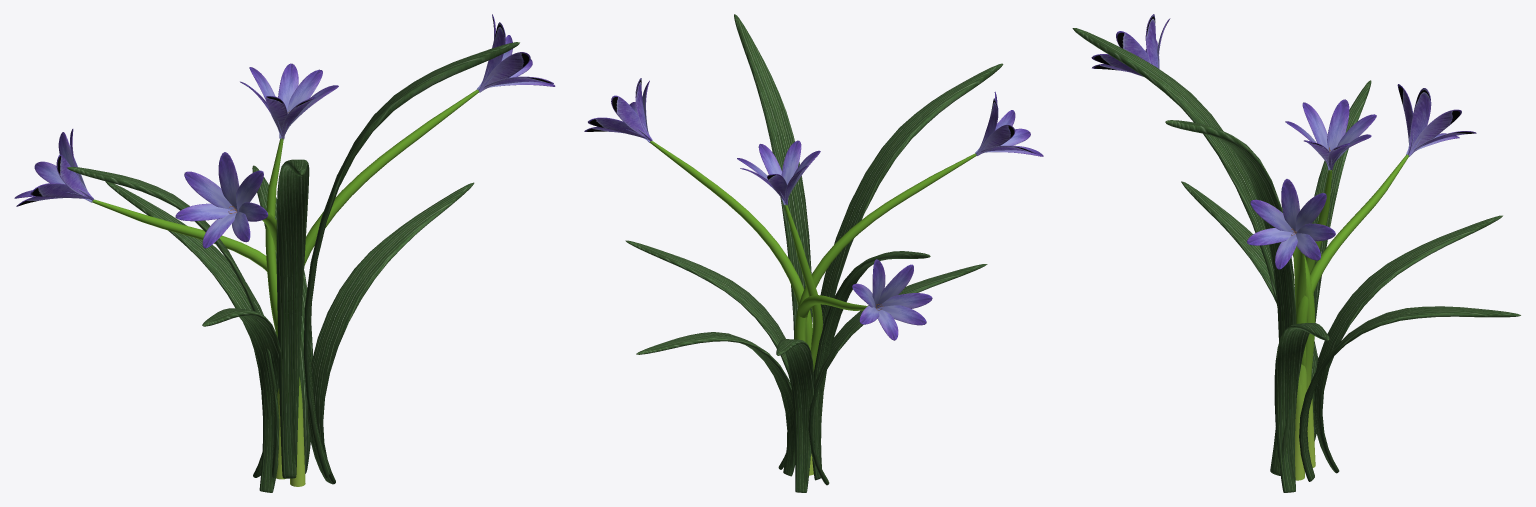
The model's file is OrchidStage3.fbx.
The picture shows the model from 3 angles, left to right: view 1: azimuth 30°, elevation 25°; view 2: azimuth 150°, elevation 25°; view 3: azimuth 270°, elevation 25°; orthographic projection. The views are drawn at different scales.
Parts seen in each view (by area): view 1: polySurface34; view 2: polySurface34; view 3: polySurface34.
Part boxes in pixels (x1,y1,x2,y2): polySurface34: [14, 14, 555, 492]; polySurface34: [584, 14, 1043, 492]; polySurface34: [1072, 14, 1520, 492].
Size of the model in its own units: 4.67 by 4.44 by 4.23.
Materials: 4 (3 with a texture image).
